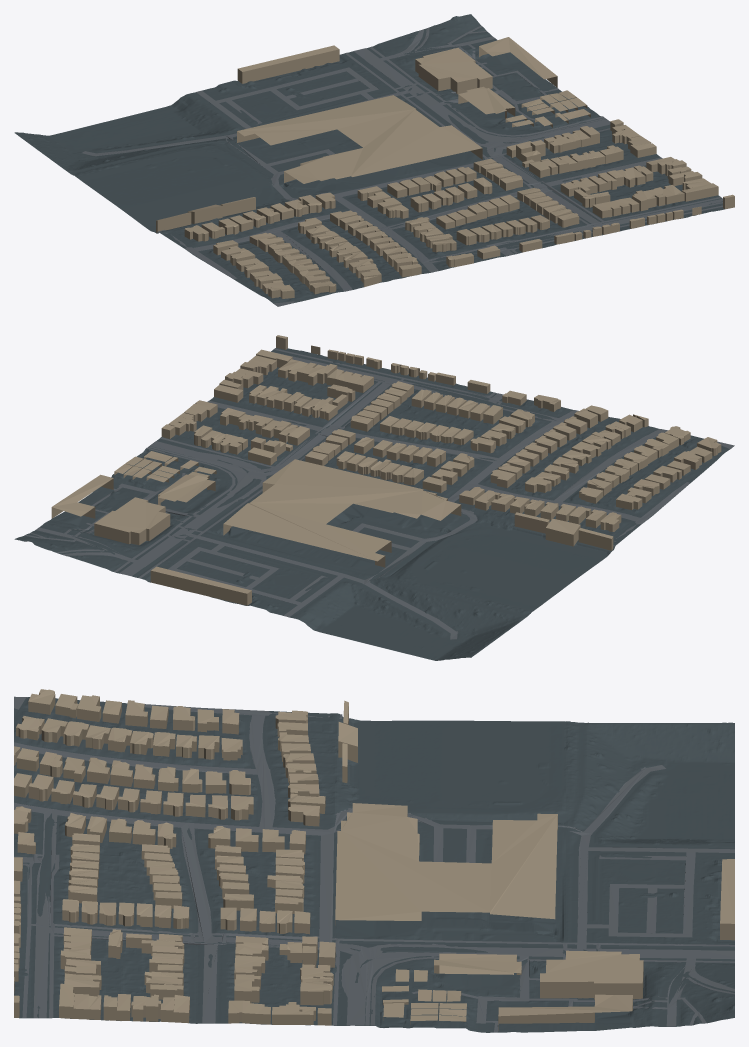
Rendered from epsg26910-1427-10874.lod0.glb.
The picture shows the model from 3 angles, top to bottom: view 1: azimuth 30°, elevation 25°; view 2: azimuth 150°, elevation 25°; view 3: azimuth 270°, elevation 25°; orthographic projection. The views are drawn at different scales.
Visible parts, largest first — view 1: epsg26910-1427-10874-lod0; view 2: epsg26910-1427-10874-lod0; view 3: epsg26910-1427-10874-lod0.
Boxes of the visible parts, bbox=[...] form: epsg26910-1427-10874-lod0: bbox=[14, 14, 734, 306]; epsg26910-1427-10874-lod0: bbox=[14, 335, 734, 660]; epsg26910-1427-10874-lod0: bbox=[14, 689, 734, 1032].
Size of the model in its own units: 384 by 30.92 by 384.
